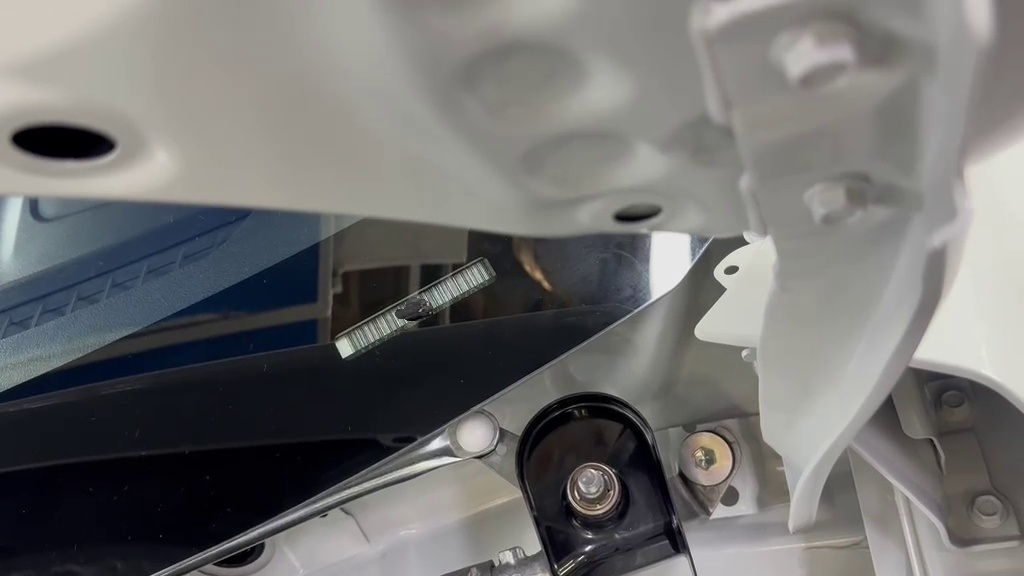barcode: (482, 371, 726, 576)
hinge: (307, 243, 515, 371)
